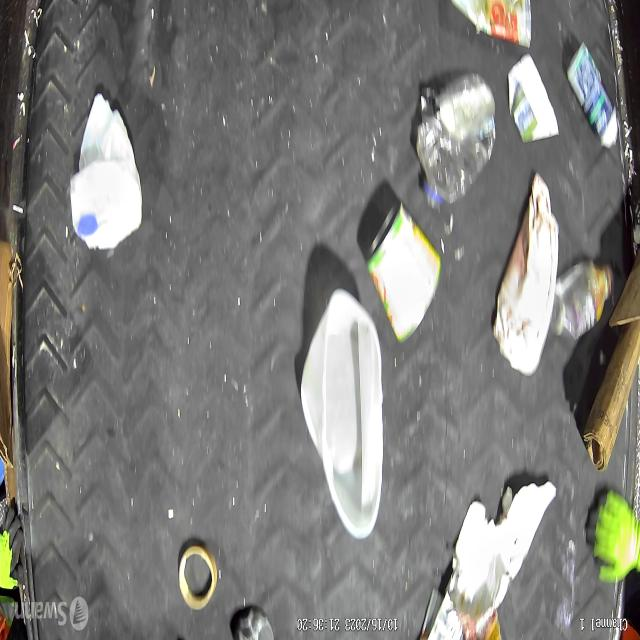can: (364, 202, 443, 344)
milk_jug: (300, 289, 384, 539), (69, 91, 142, 250)
plastic_bottle: (414, 72, 496, 210), (550, 258, 615, 343)
